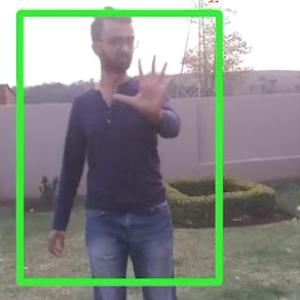follow_hand: (112, 52, 180, 118)
